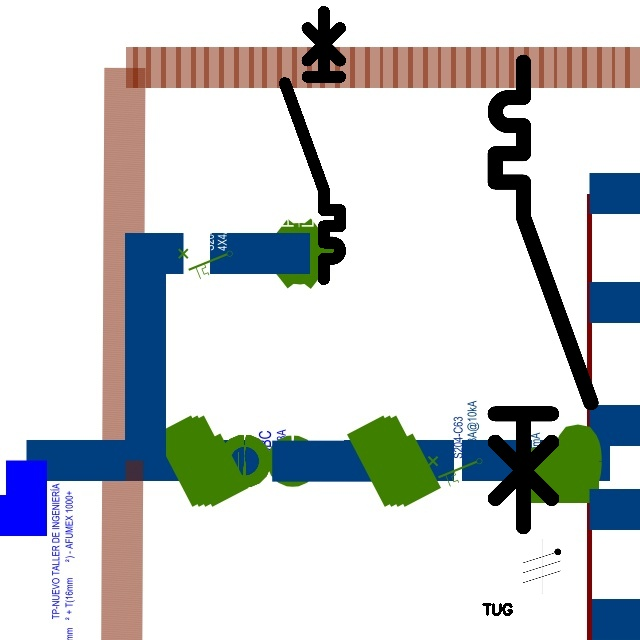interruptor_termomagnetico: (483, 50, 602, 539), (278, 5, 347, 286)
